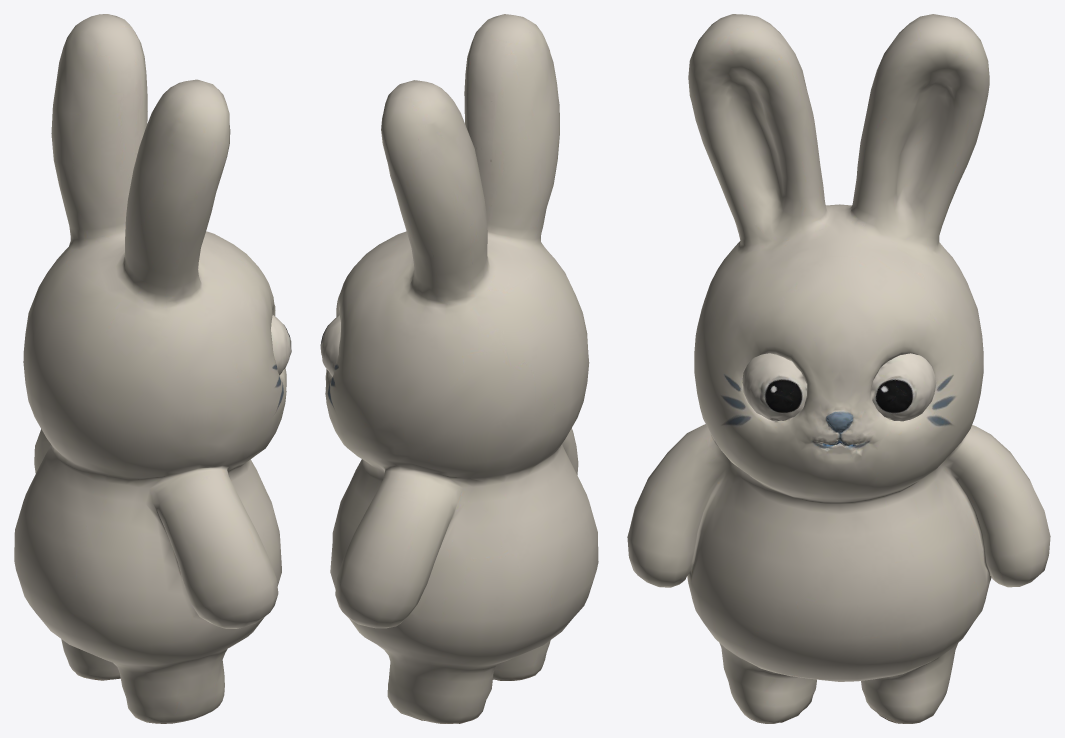
3 renders of one model, left to right at view 1: azimuth 30°, elevation 25°; view 2: azimuth 150°, elevation 25°; view 3: azimuth 270°, elevation 25°, orthographic. The views are drawn at different scales.
Parts seen in each view (by area): view 1: tripo_node_59ec57cd-a9b2-4335-881d-4a88d9b2b6eb; view 2: tripo_node_59ec57cd-a9b2-4335-881d-4a88d9b2b6eb; view 3: tripo_node_59ec57cd-a9b2-4335-881d-4a88d9b2b6eb.
Boxes of the visible parts, x1=… form: tripo_node_59ec57cd-a9b2-4335-881d-4a88d9b2b6eb: x1=14, y1=14, x2=291, y2=723; tripo_node_59ec57cd-a9b2-4335-881d-4a88d9b2b6eb: x1=320, y1=14, x2=598, y2=723; tripo_node_59ec57cd-a9b2-4335-881d-4a88d9b2b6eb: x1=627, y1=14, x2=1050, y2=723.
Size of the model in its own units: 0.3965 by 0.998 by 0.5566.
1 material, 1 textured.
